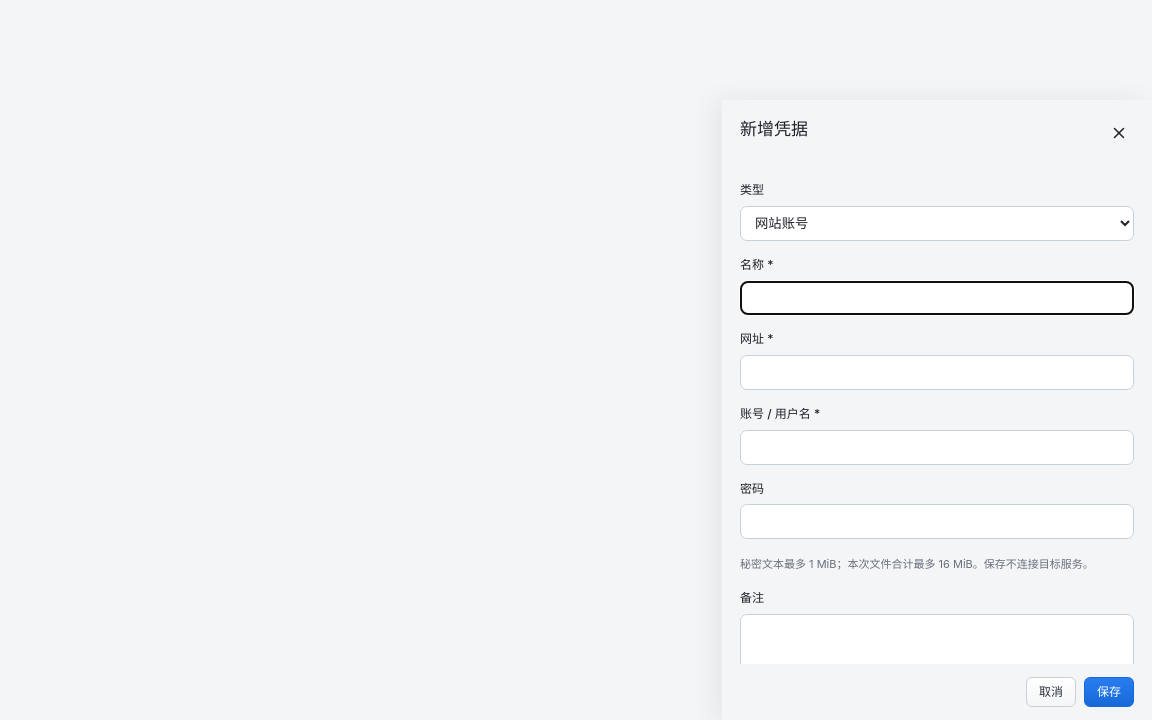
credential editing and validation › blocks incomplete tls records before requesting a save
The image size is (1152, 720).
Select "SSL / TLS" in the dropdown labelled "类型" at [937, 223], box [740,206,1134,241]
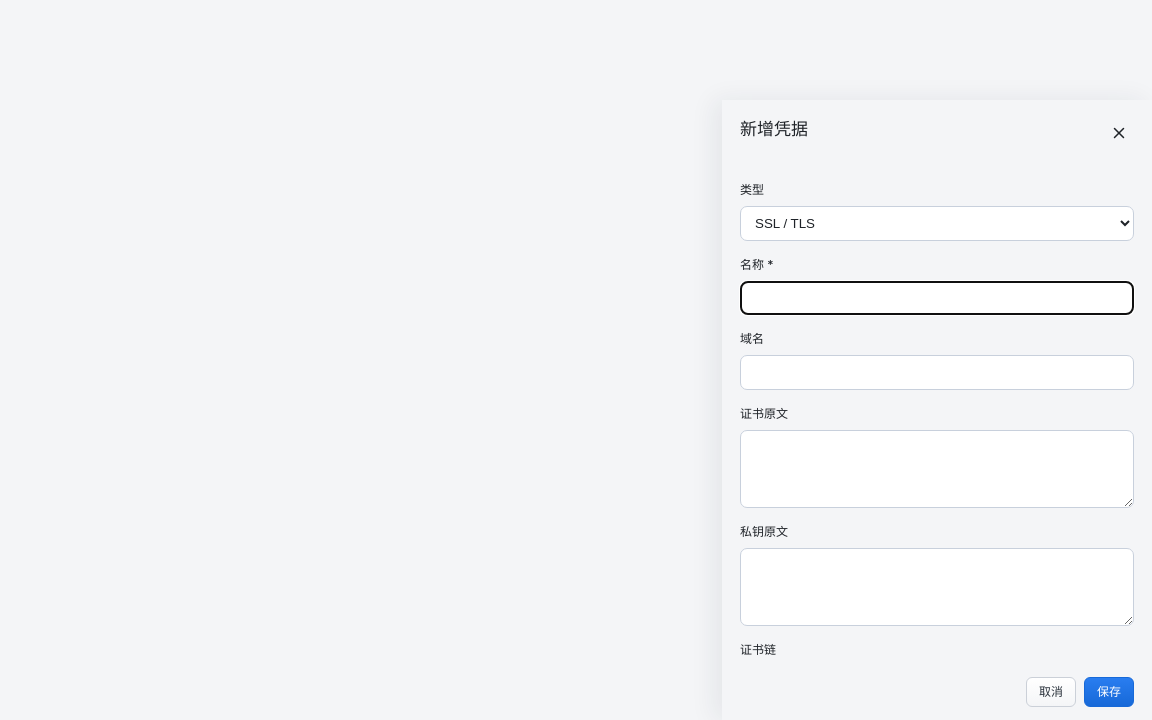
Click the button "保存" at [1109, 692], box [1084,677,1134,707]
(page scrolled)
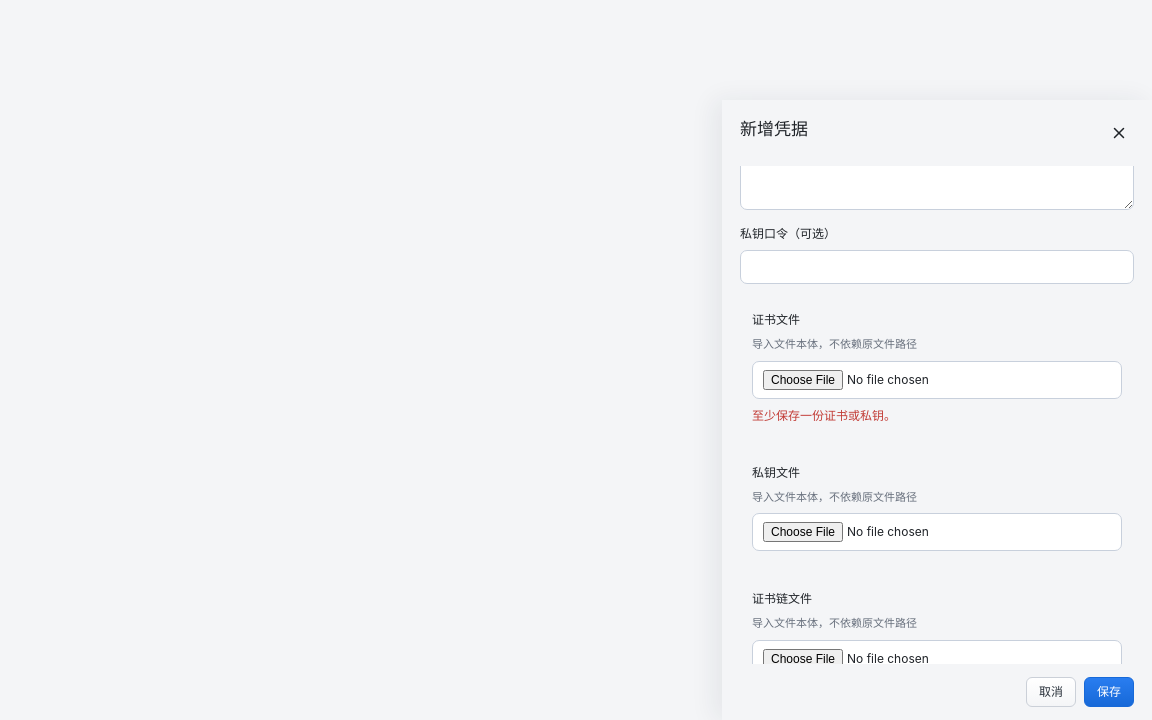
Expected: the text "至少保存一份证书或私钥。" is shown, [752,408,896,423]
